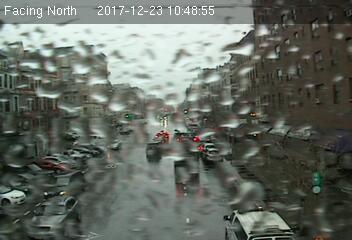car: (26, 191, 84, 238), (144, 141, 163, 159), (203, 148, 224, 164)
police: (221, 206, 294, 240)
